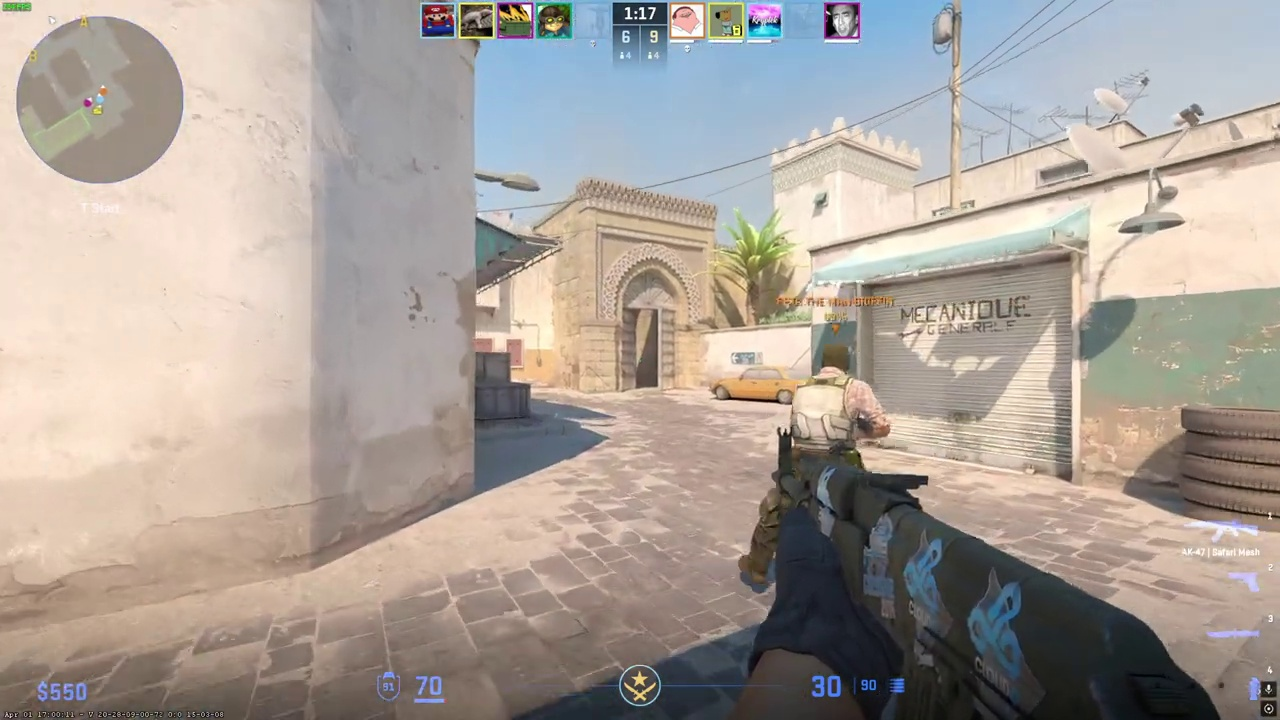Terrorist: (785, 344, 881, 478)
